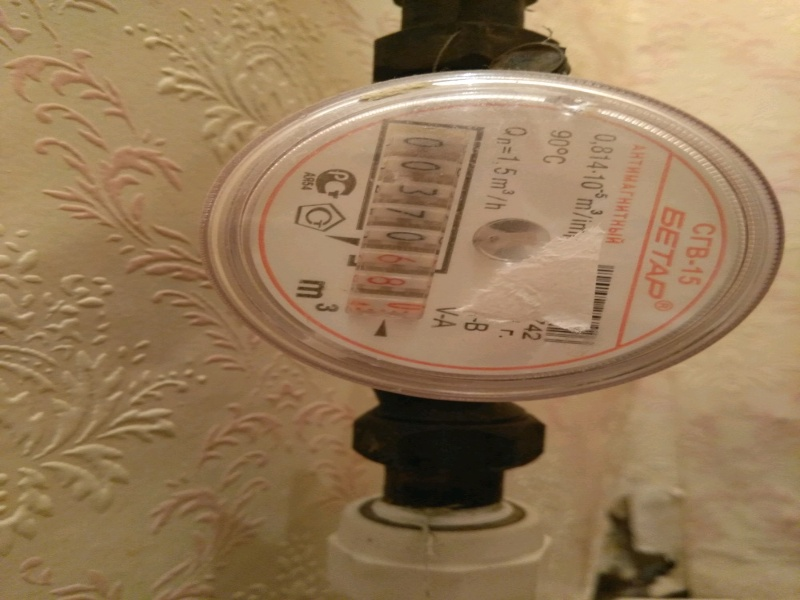meter: (364, 130, 447, 330)
